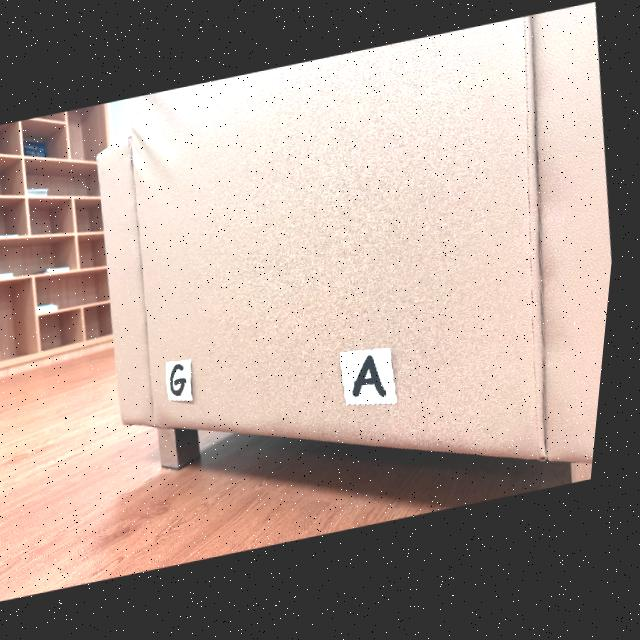A: (361, 360, 394, 402)
G: (178, 367, 194, 398)
